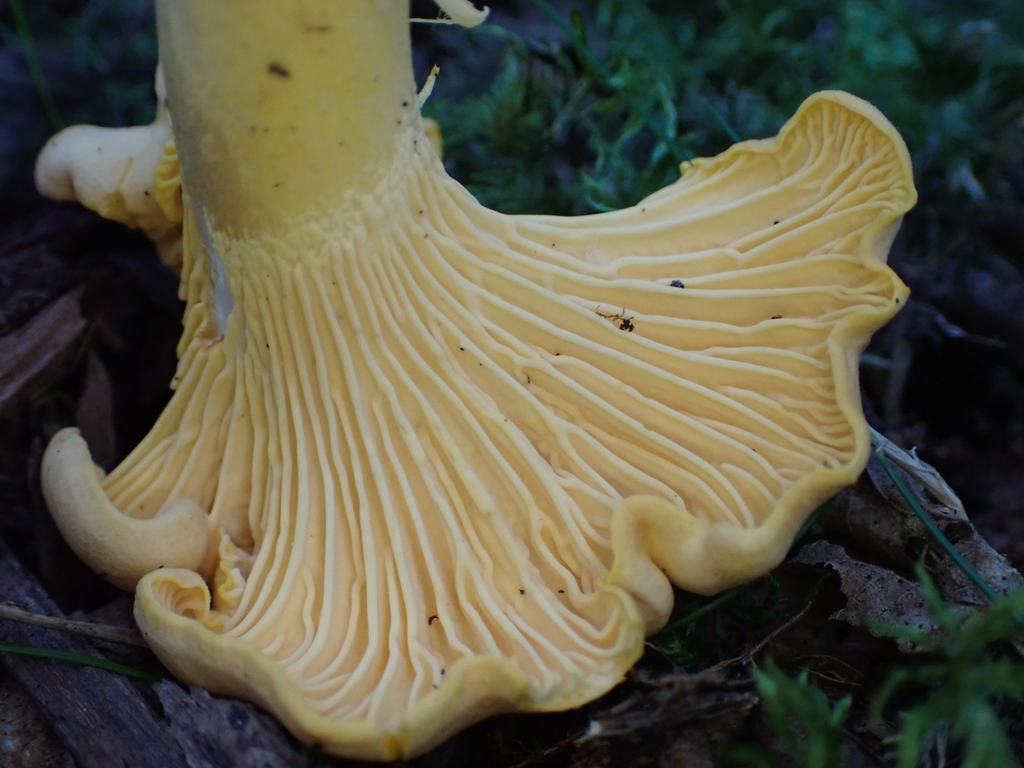stem: (156, 0, 421, 239)
underside: (107, 102, 901, 721)
